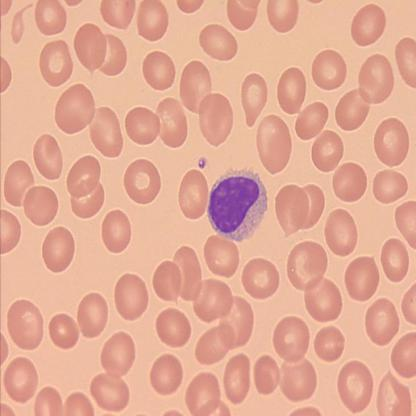Lymphocyte: (206, 166, 268, 243)
